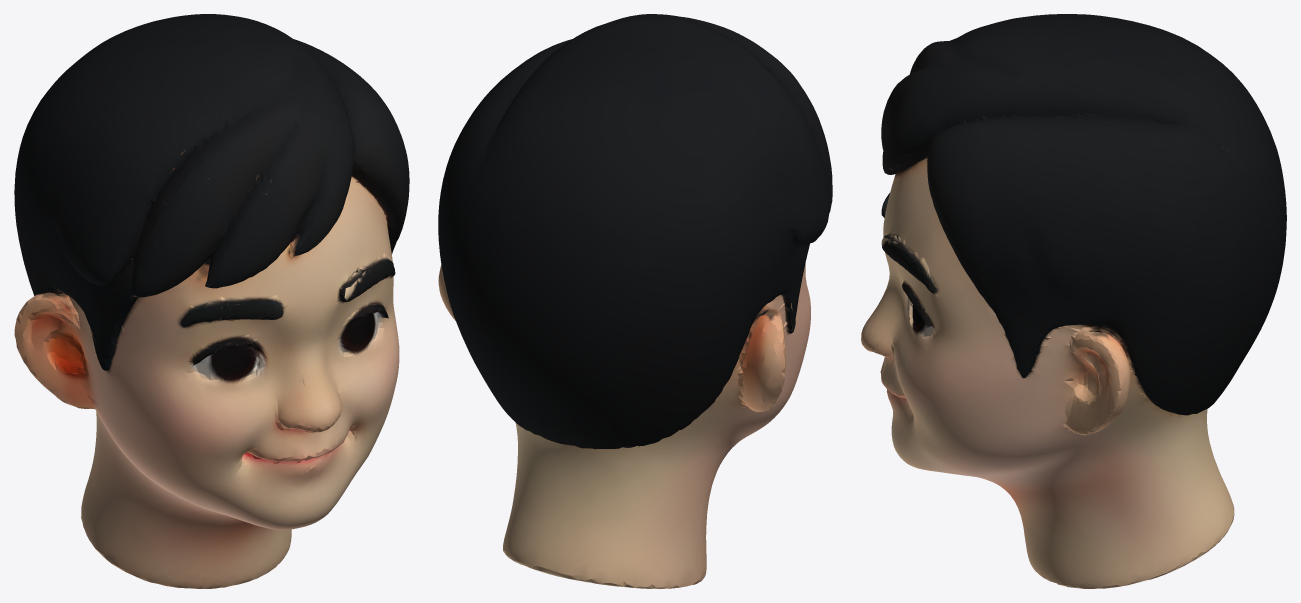
Rendered from stylized_face_generated.obj.
3 views of the same model, side by side, from view 1: azimuth 30°, elevation 25°; view 2: azimuth 150°, elevation 25°; view 3: azimuth 270°, elevation 25° (orthographic). The views are drawn at different scales.
Parts seen in each view (by area): view 1: photographer_try1; view 2: photographer_try1; view 3: photographer_try1.
Part boxes in pixels (x1,y1,x2,y2): photographer_try1: (14,14,409,588); photographer_try1: (438,14,832,588); photographer_try1: (861,14,1286,588).
Bounding box in the file's own units: 1.34 × 1.9 × 1.39.
Materials: 1 (1 with a texture image).
